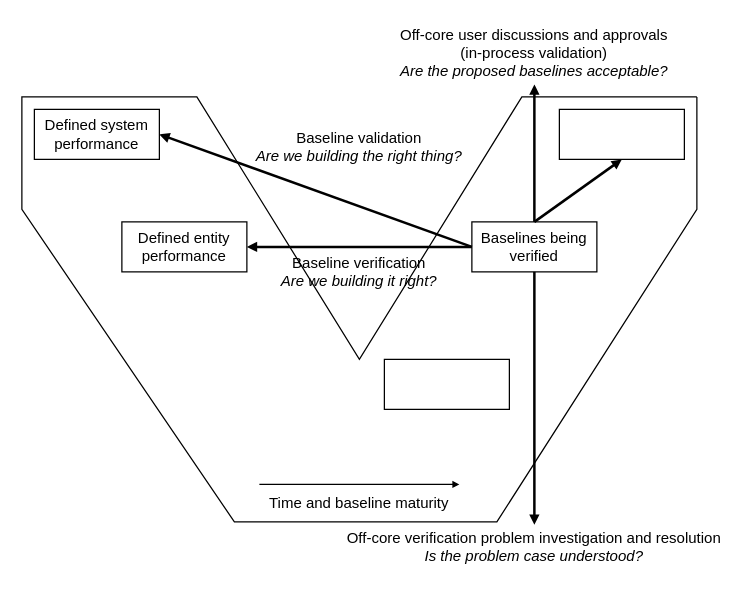
This 750x593 diagram has some shape labels left out. The shapes that lost their labels are listed below. From the top down, each one's centre as x and y in pixels, then its label:
the point at 621,133: Baselines to be verified
the point at 446,383: Baselines verified
